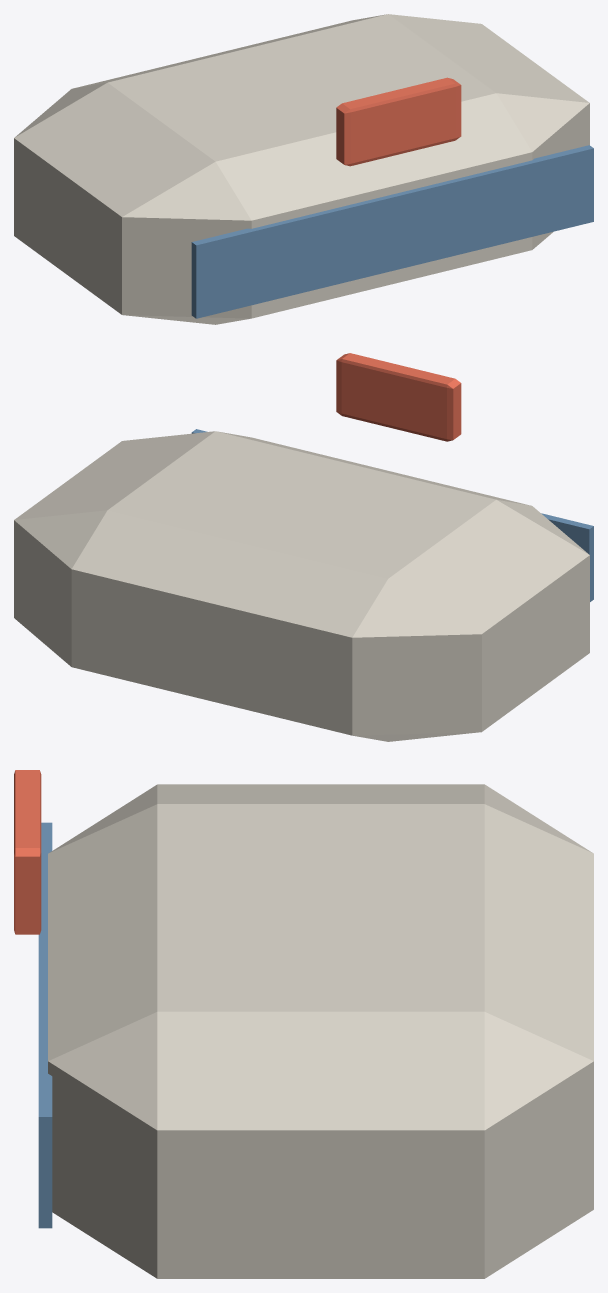
The model's file is diner.glb.
The picture shows the model from 3 angles, top to bottom: view 1: azimuth 30°, elevation 25°; view 2: azimuth 150°, elevation 25°; view 3: azimuth 270°, elevation 25°; orthographic projection. The views are drawn at different scales.
Visible parts, largest first — view 1: walls, wrap, roofsign; view 2: walls, roofsign, wrap; view 3: walls, wrap, roofsign.
Boxes of the visible parts, box(x1,y1,x2,y2) form: walls: box(14, 14, 589, 324); wrap: box(191, 145, 593, 318); roofsign: box(336, 77, 461, 166); walls: box(14, 431, 589, 741); roofsign: box(336, 353, 461, 441); wrap: box(191, 429, 593, 601); walls: box(48, 784, 593, 1278); wrap: box(38, 822, 52, 1228); roofsign: box(14, 770, 41, 934).
Bounding box in the file's own units: 12 × 5.6 × 8.5.
